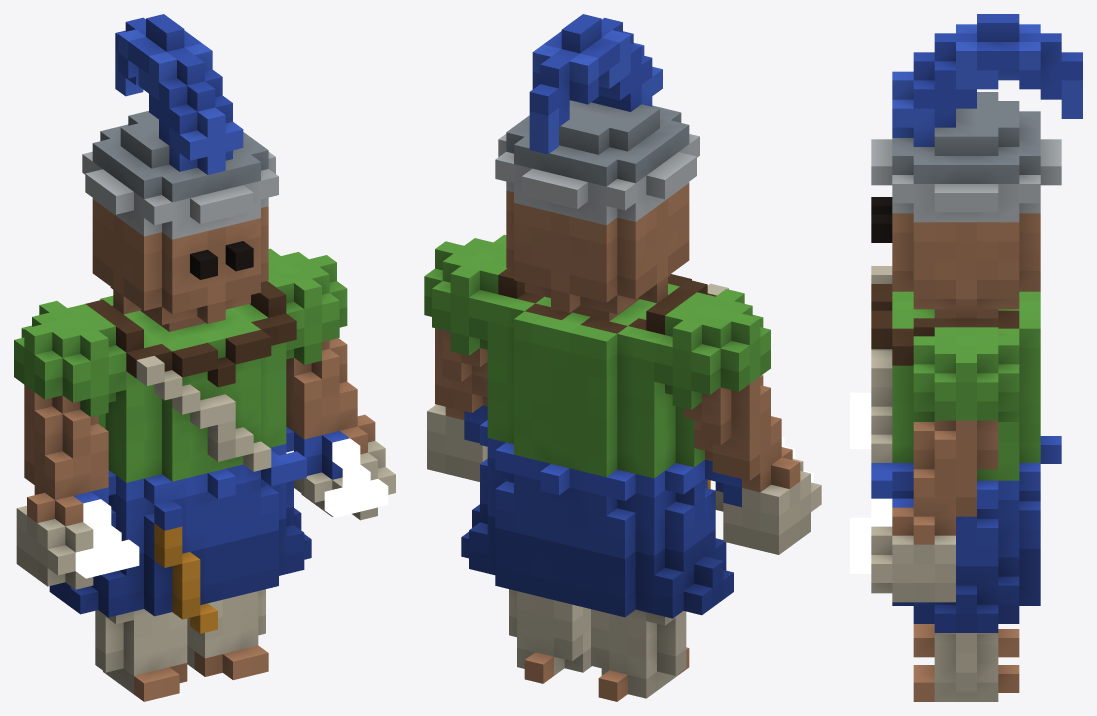
Rendered from u_moine__garde.glb.
3 renders of one model, left to right at view 1: azimuth 30°, elevation 25°; view 2: azimuth 150°, elevation 25°; view 3: azimuth 270°, elevation 25°, orthographic. The views are drawn at different scales.
Visible parts, largest first — view 1: moine_body, moine_glow; view 2: moine_body; view 3: moine_body, moine_glow.
Boxes of the visible parts, x1=… form: moine_body: x1=14, y1=14, x2=395, y2=701; moine_glow: x1=75, y1=438, x2=388, y2=578; moine_body: x1=424, y1=14, x2=821, y2=701; moine_body: x1=871, y1=14, x2=1082, y2=701; moine_glow: x1=850, y1=392, x2=892, y2=573.
Bounding box in the file's own units: 0.95 × 1.7 × 0.55.
